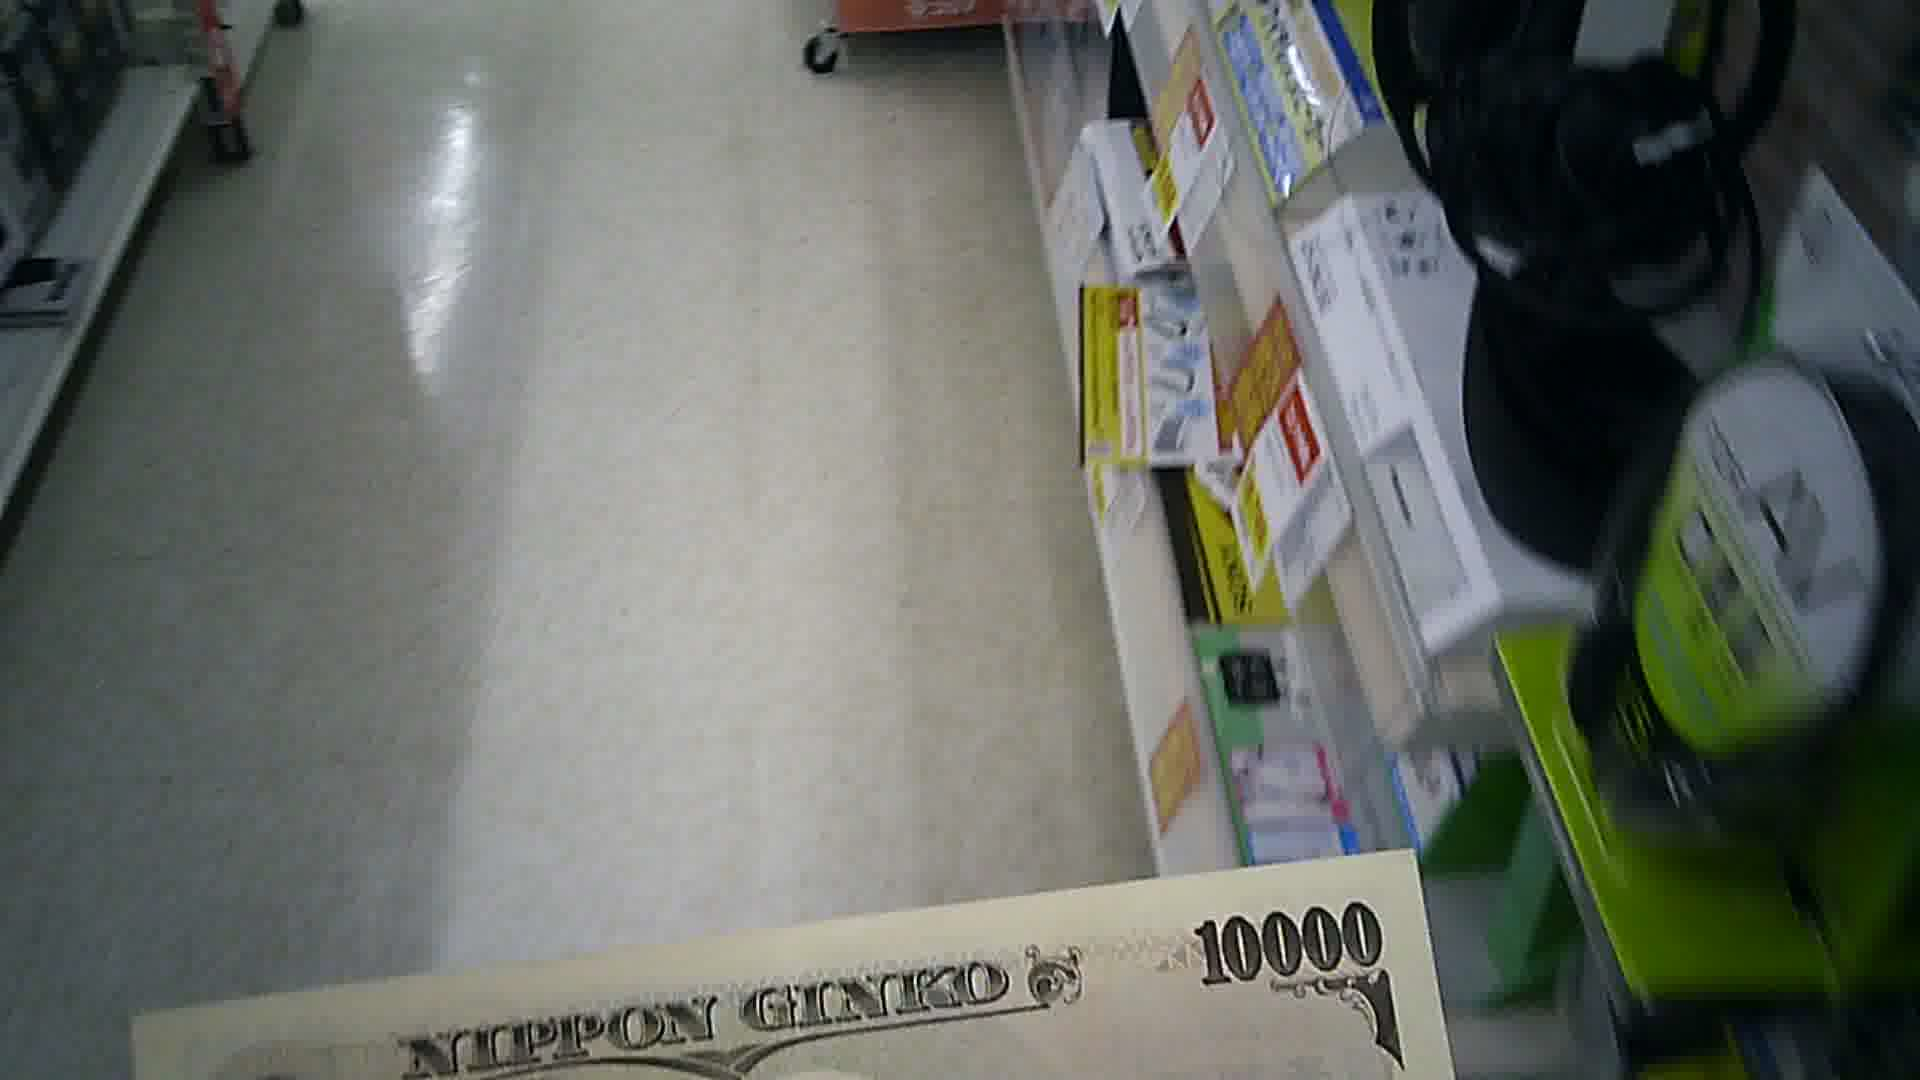10,000 Yen: (153, 841, 1457, 1077)
